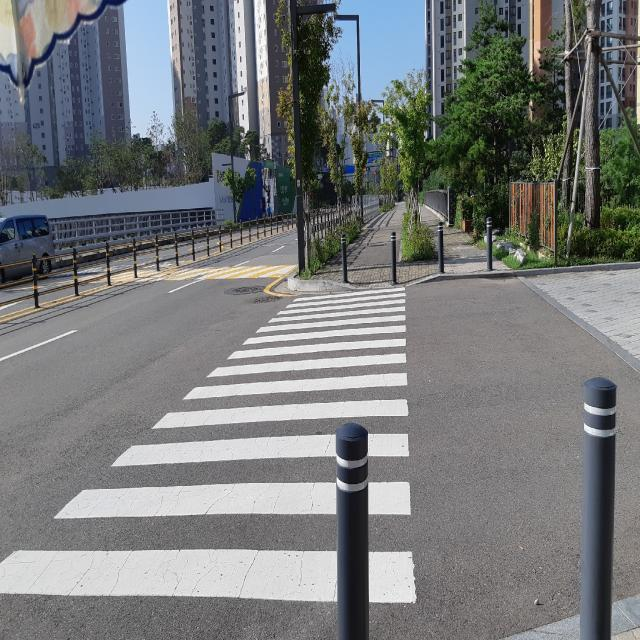횡단보도: (0, 288, 418, 604)
